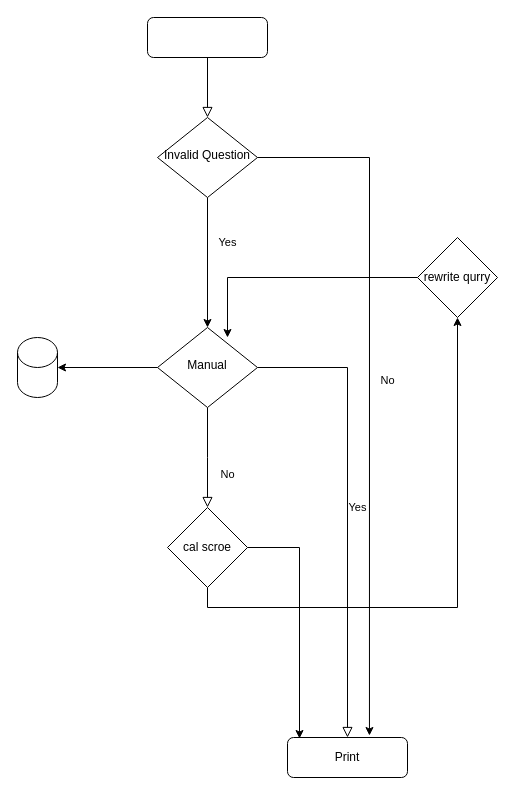
Image size: 515x795. Some labels were removed from this diagram. Here are the shapes that lost their labels. From the top down, the box of each, then its label:
(146, 16, 268, 58): User Input
(16, 336, 58, 398): milvus
